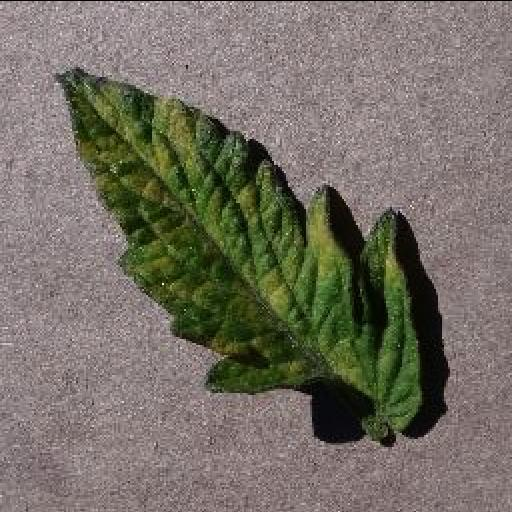disease_tomato: (50, 68, 424, 436)
